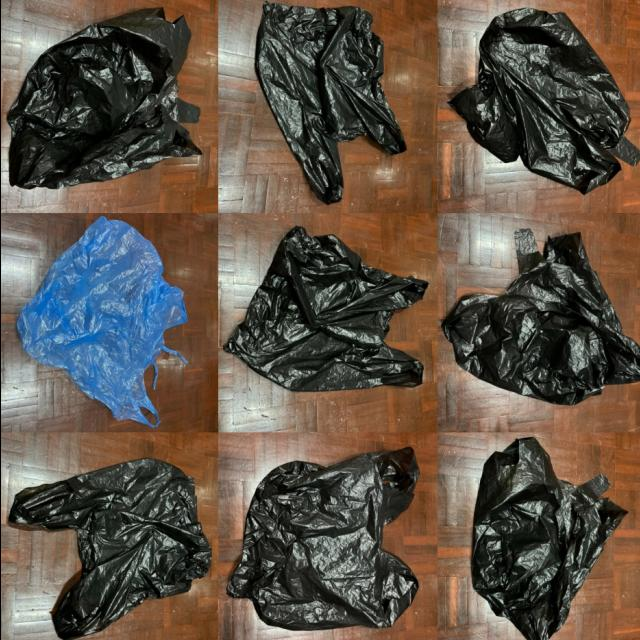plastik: (8, 459, 210, 640), (17, 216, 186, 427), (449, 8, 640, 194), (441, 229, 640, 405), (227, 447, 418, 630), (7, 8, 200, 189), (223, 226, 427, 391), (471, 437, 626, 640), (256, 2, 405, 205)
